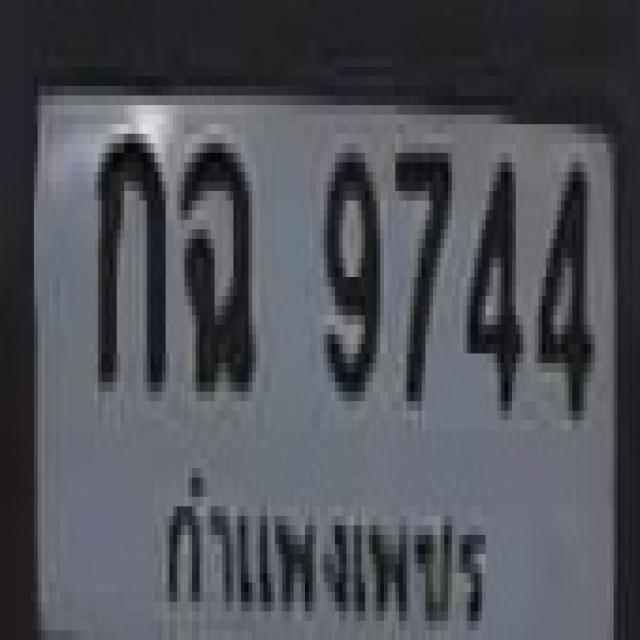4: (463, 153, 520, 401), (535, 153, 587, 411)
7: (392, 143, 448, 392)
9: (320, 143, 376, 392)
A01: (94, 124, 162, 382)
A09: (177, 134, 252, 382)
KPT: (152, 449, 496, 640)
